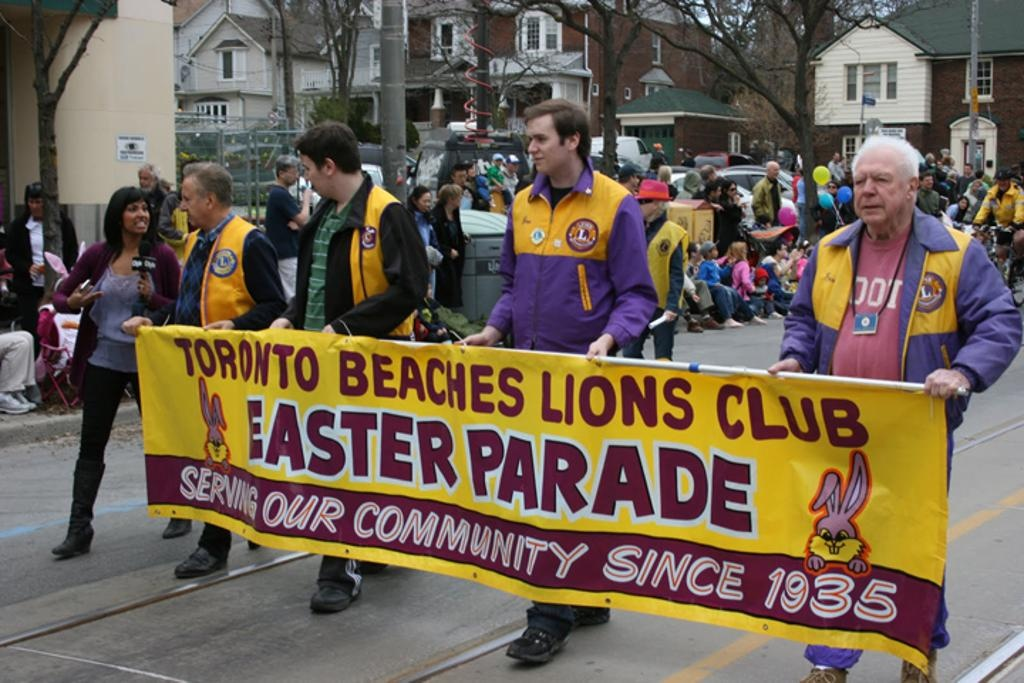human_face: (852, 147, 906, 223), (527, 115, 565, 173), (300, 151, 326, 199), (180, 178, 204, 224), (122, 198, 150, 234), (638, 196, 656, 218), (28, 197, 46, 217), (283, 164, 299, 184), (138, 170, 150, 194), (419, 191, 431, 213), (455, 168, 467, 186), (628, 169, 640, 187), (724, 181, 736, 197), (778, 243, 788, 259), (692, 245, 702, 260), (923, 176, 933, 189), (451, 193, 459, 209), (708, 245, 718, 257), (768, 165, 778, 177), (829, 182, 837, 196), (998, 178, 1008, 188), (508, 160, 516, 172), (756, 277, 766, 285), (958, 198, 966, 208), (714, 186, 720, 196), (496, 158, 502, 166), (964, 165, 970, 173), (833, 152, 839, 160)
